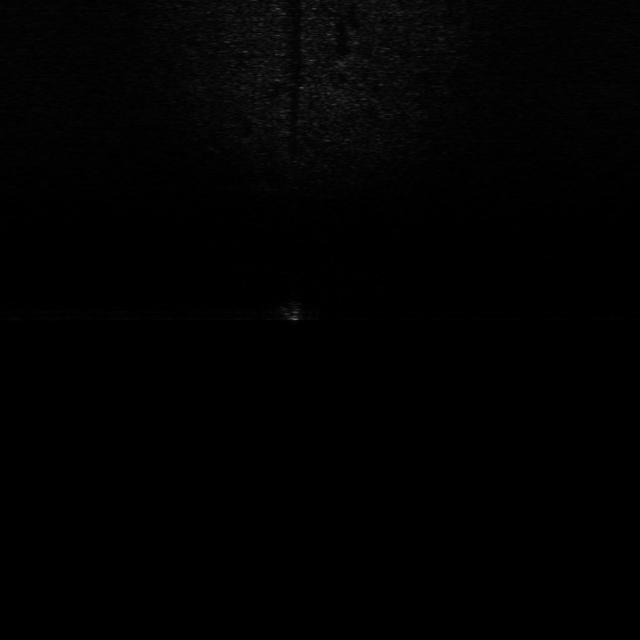human body: (277, 288, 321, 328)
